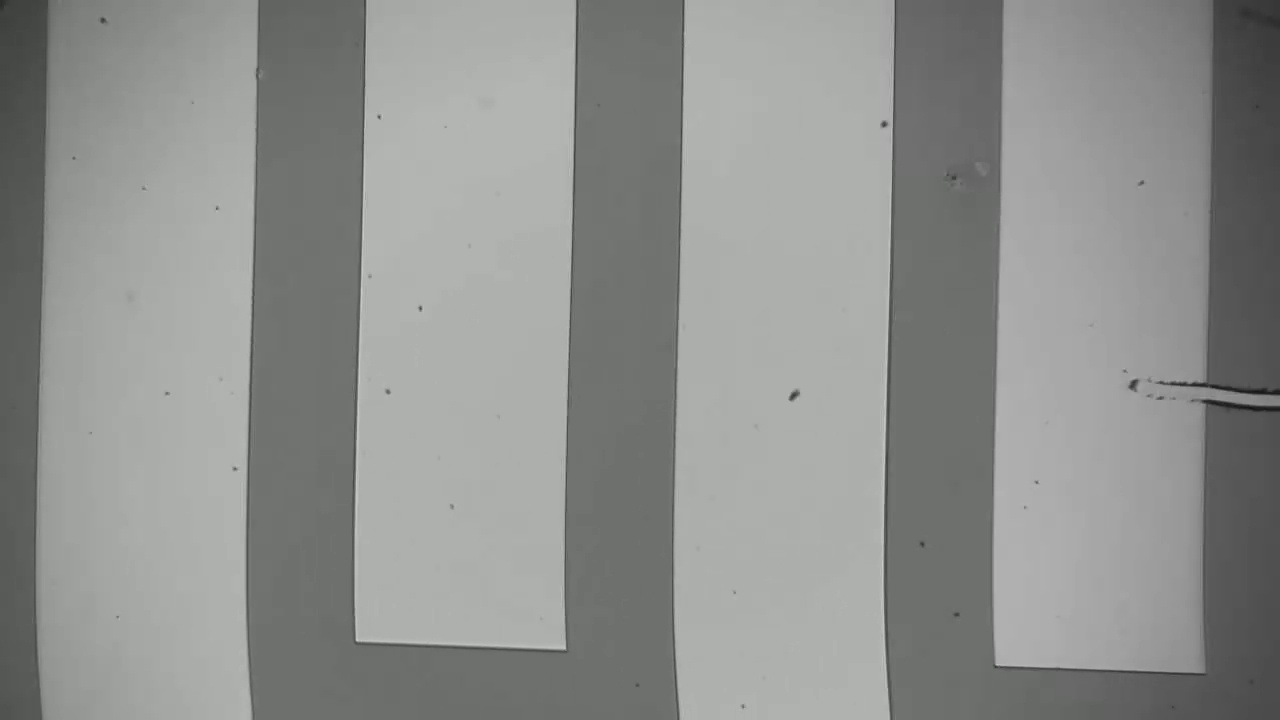Short_circuit: (1169, 356, 1279, 430)
